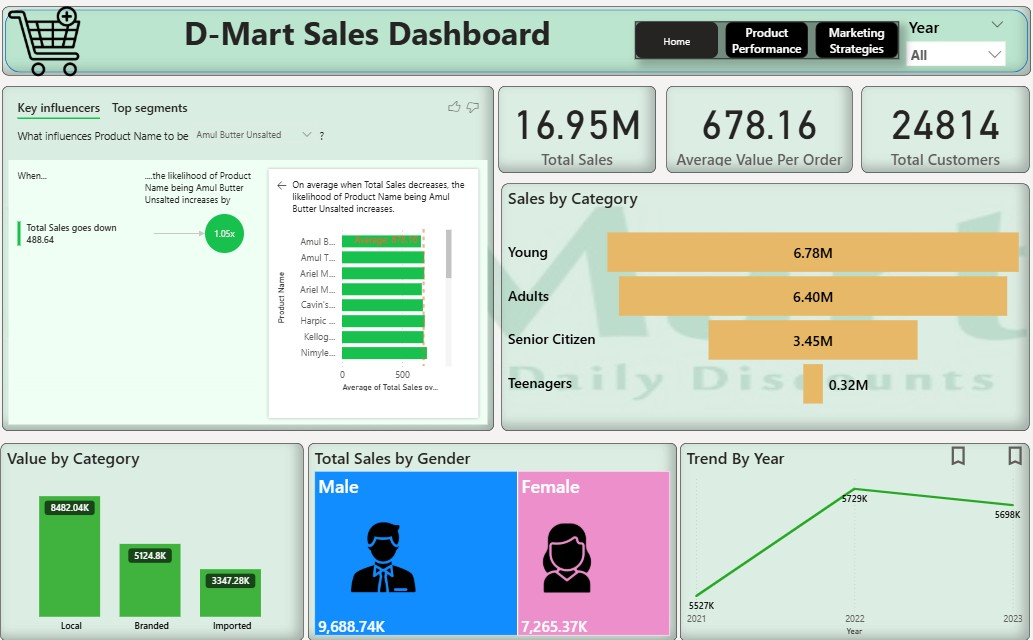

What the dashboard file says about the page in this screenshot:
{"tool":"powerbi","page":{"name":"Home","canvas":[1400,870],"ordinal":0},"visuals":[{"type":"columnChart","title":"Value by Category","fields":{"Category":["Dmart+Dataset_Tableau.Category"],"Y":["Sum(Dmart+Dataset_Tableau.Total Order Value)"]},"box":[14,596,404,266],"z":0},{"type":"card","title":"Average Value Per Order","fields":{"Values":["Dmart+Dataset_Tableau.Average Value Per Order"]},"box":[902,120,248,116],"z":1000},{"type":"shape","box":[16,14,1372,92],"z":2000},{"type":"textbox","box":[150,14,706,76],"z":3000},{"type":"image","box":[14,0,116,120],"z":4000},{"type":"card","title":"Total Sale","fields":{"Values":["Dmart+Dataset_Tableau.Total Sales"]},"box":[678,120,210,116],"z":6000},{"type":"card","fields":{"Values":["Dmart+Dataset_Tableau.Total Customers"]},"box":[1162,120,224,116],"z":7000},{"type":"slicer","fields":{"Values":["Dmart+Dataset_Tableau.Year_1"]},"box":[1212,20,152,106],"z":8000},{"type":"keyDriversVisual","fields":{"Target":["Dmart+Dataset_Tableau.Product Name"],"ExplainBy":["Dmart+Dataset_Tableau.Total Sales"]},"box":[16,120,656,460],"z":9000},{"type":"lineChart","title":"Trend By Year","fields":{"Y":["Sum(Dmart+Dataset_Tableau.Total Order Value)"],"Category":["Dmart+Dataset_Tableau.Order Date.Variation.Date Hierarchy.Year"]},"box":[920,596,466,266],"z":11000},{"type":"funnel","title":"Sales by Category","fields":{"Y":["Dmart+Dataset_Tableau.Total Sales"],"Category":["Dmart+Dataset_Tableau.Age_Categories"]},"box":[682,250,704,330],"z":12000},{"type":"pageNavigator","box":[860,34,352,50],"z":13000},{"type":"treemap","fields":{"Group":["Dmart+Dataset_Tableau.Gender"],"Values":["Dmart+Dataset_Tableau.Total Sales"]},"box":[424,596,492,266],"z":14000},{"type":"actionButton","box":[1350,596,36,34],"z":15000},{"type":"actionButton","box":[1274,596,76,34],"z":16000},{"type":"image","box":[466,688,116,120],"z":16001},{"type":"image","box":[718,696,102,106],"z":16002}]}

Visuals, with their boxes in screenshot pixels (x1, y1, x2, y2), scaled from the page's 1400x870 canvas onto the 1033x640 screenshot:
"Value by Category" columnChart: 10:438:308:634
"Average Value Per Order" card: 666:88:849:174
shape: 12:10:1024:78
textbox: 111:10:632:66
image: 10:0:96:88
"Total Sale" card: 500:88:655:174
card - Dmart+Dataset_Tableau.Total Customers: 857:88:1023:174
slicer - Dmart+Dataset_Tableau.Year_1: 894:15:1006:93
keyDriversVisual - Dmart+Dataset_Tableau.Product Name x Dmart+Dataset_Tableau.Total Sales: 12:88:496:427
"Trend By Year" lineChart: 679:438:1023:634
"Sales by Category" funnel: 503:184:1023:427
pageNavigator: 635:25:894:62
treemap - Dmart+Dataset_Tableau.Gender x Dmart+Dataset_Tableau.Total Sales: 313:438:676:634
actionButton: 996:438:1023:463
actionButton: 940:438:996:463
image: 344:506:429:594
image: 530:512:605:590
